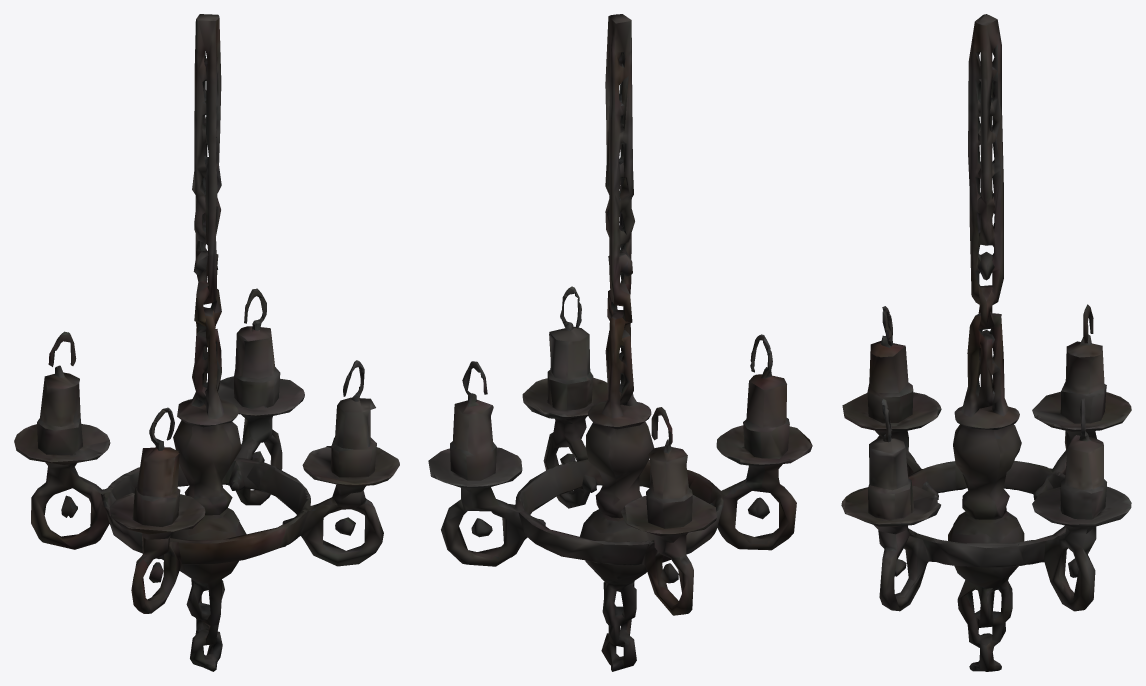
Rendered from ancient-iron-chandelier-v002.glb.
3 views of the same model, side by side, from view 1: azimuth 30°, elevation 25°; view 2: azimuth 150°, elevation 25°; view 3: azimuth 270°, elevation 25° (orthographic).
Parts seen in each view (by area): view 1: ancient-iron-chandelier; view 2: ancient-iron-chandelier; view 3: ancient-iron-chandelier.
Part boxes in pixels (<box>): ancient-iron-chandelier: <box>14,14,399,671</box>; ancient-iron-chandelier: <box>428,14,812,671</box>; ancient-iron-chandelier: <box>841,14,1131,671</box>.
Size of the model in its own units: 0.4915 by 1.11 by 0.4466.
1 material, 1 textured.
